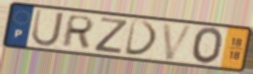D: (123, 18, 160, 58)
O: (191, 26, 225, 66)
R: (59, 14, 97, 49)
U: (30, 8, 66, 49)
V: (161, 22, 196, 62)
Z: (92, 16, 130, 55)
